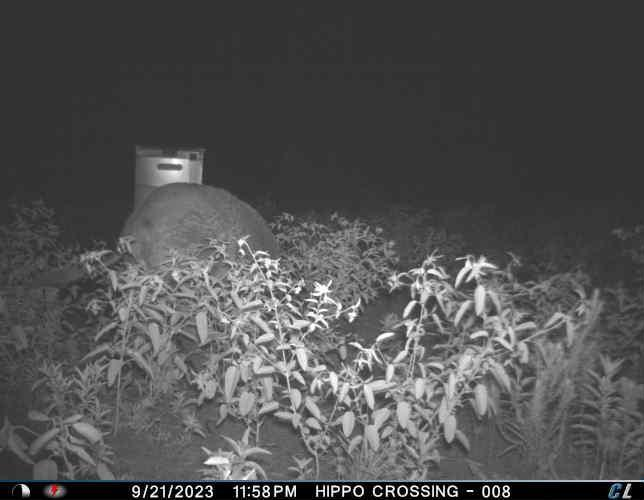Hog: (115, 180, 285, 265)
